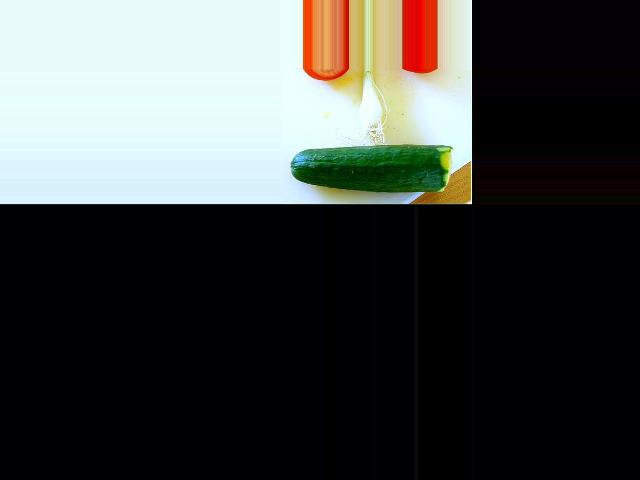cucumber: (289, 145, 452, 193)
